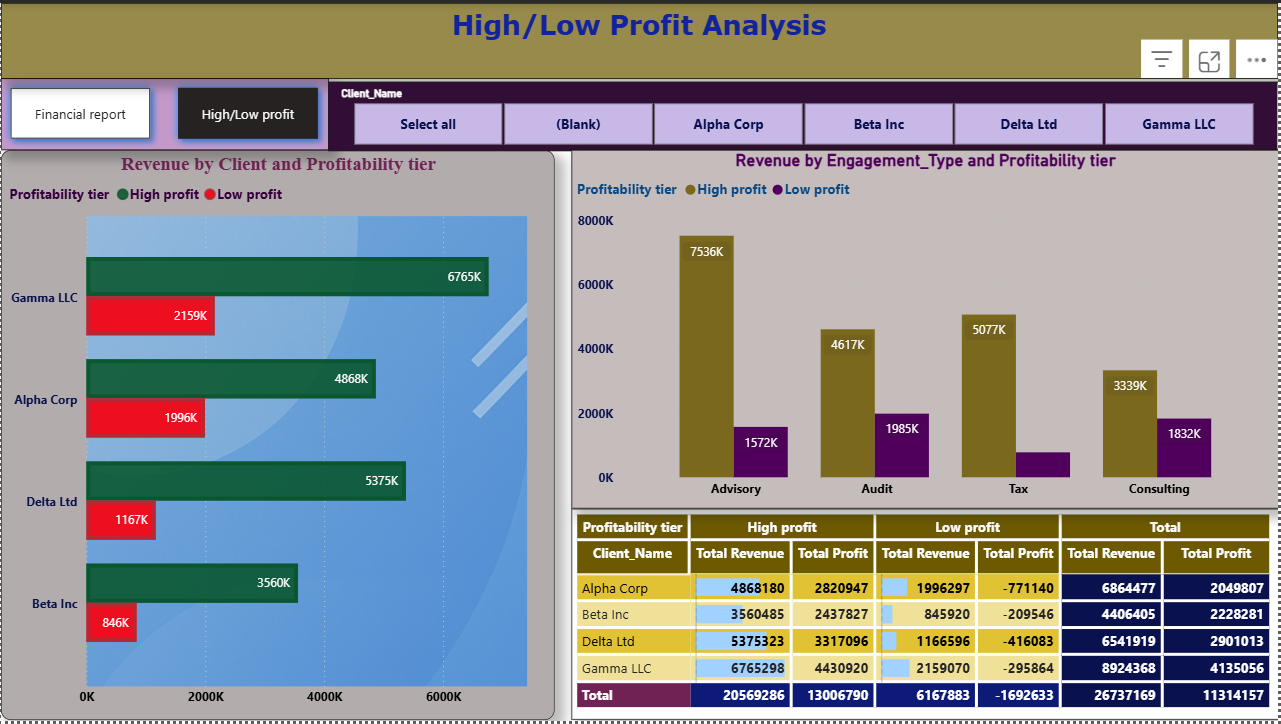

Layout of this report page (visuals, bound fields, positions):
{"tool":"powerbi","page":{"name":"High/Low profit","canvas":[1280,720],"ordinal":1},"visuals":[{"type":"pivotTable","fields":{"Values":["Fin_DB.Total Revenue","Fin_DB.Total Profit"],"Rows":["Fin_DB.Client_Name"],"Columns":["Fin_DB.Profitability tier"]},"box":[571.2,507.5,708.9,211.6],"z":0},{"type":"clusteredBarChart","title":"Revenue by Client and Profitability tier","fields":{"Category":["Fin_DB.Client_Name"],"Y":["Fin_DB.Total Revenue"],"Series":["Fin_DB.Profitability tier"]},"box":[0,147.9,554.8,571.2],"z":1000},{"type":"pageNavigator","box":[0,76,328.7,71.9],"z":2000},{"type":"textbox","box":[0,0,1280.1,76],"z":3000},{"type":"slicer","fields":{"Values":["Fin_DB.Client_Name"]},"box":[328.7,78.1,951.3,69.9],"z":5000},{"type":"clusteredColumnChart","title":"Revenue by Engagement_Type and Profitability tier","fields":{"Y":["Sum(Fin_DB.Revenue)"],"Series":["Fin_DB.Profitability tier"],"Category":["Fin_DB.Engagement_Type"]},"box":[571.2,147.9,708.9,359.6],"z":5001}]}

Visuals, with their boxes in screenshot pixels (x1, y1, x2, y2), scaled from the page's 1280x720 canvas onto the 1281x724 screenshot:
pivotTable - Fin_DB.Total Revenue x Fin_DB.Total Profit: [572, 510, 1280, 723]
"Revenue by Client and Profitability tier" clusteredBarChart: [0, 149, 555, 723]
pageNavigator: [0, 76, 329, 149]
textbox: [0, 0, 1280, 76]
slicer - Fin_DB.Client_Name: [329, 79, 1280, 149]
"Revenue by Engagement_Type and Profitability tier" clusteredColumnChart: [572, 149, 1280, 510]
